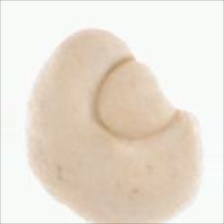L5: (88, 54, 184, 141)
L6: (24, 26, 203, 224)
